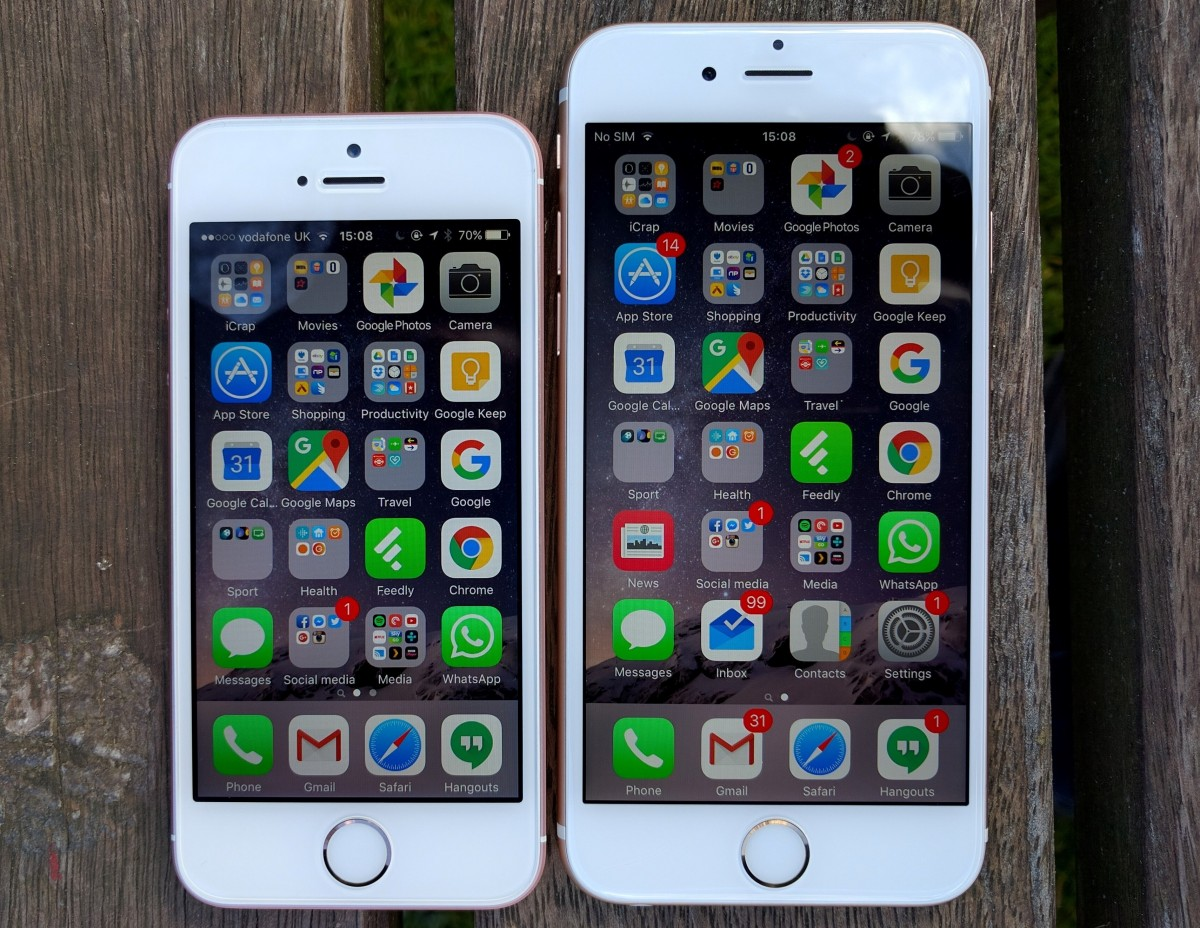smartphone: (554, 22, 994, 909), (167, 112, 549, 910)
